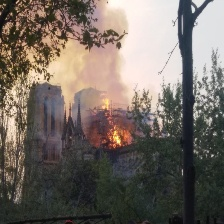fire: (100, 105, 132, 146)
smoke: (41, 1, 142, 106)
